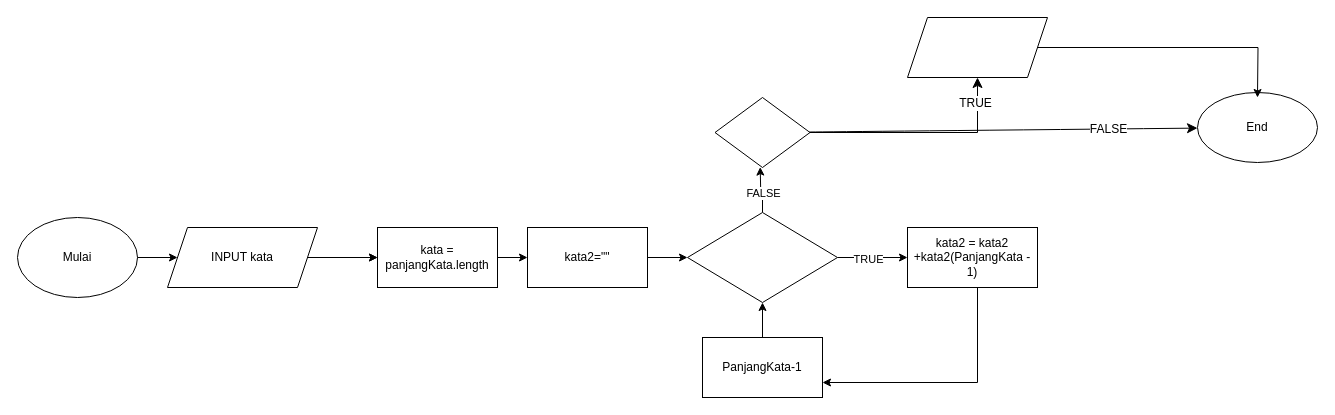
Some shapes in this 1335 by 415 pixel diagram are drawn without their labels. Each missing label, with the box of its shape:
kata = panjangKata < 0: (686, 212, 838, 302)
kata == kata2: (714, 96, 810, 168)
OUTPUT "polindrom": (906, 16, 1048, 78)
